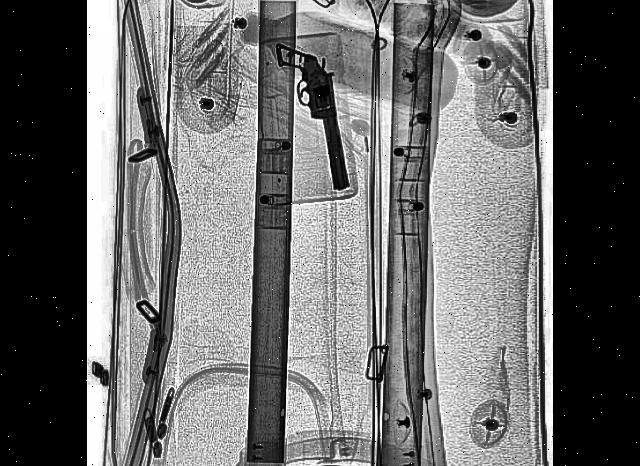Gun: (276, 25, 352, 207)
